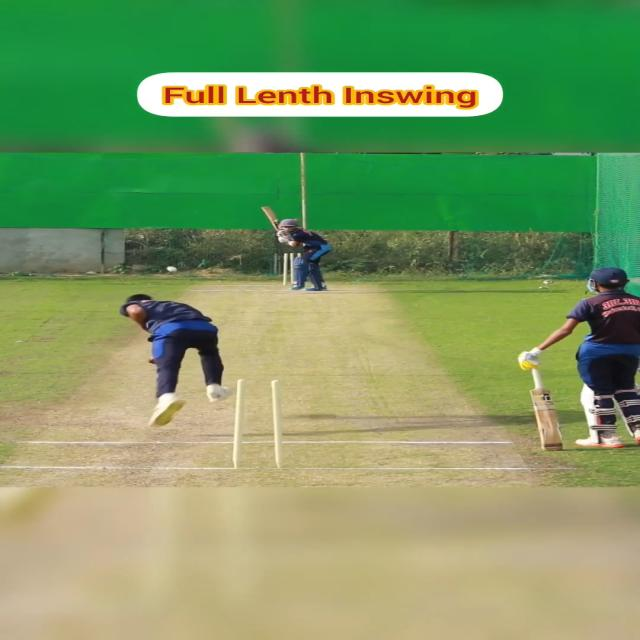ball: (166, 266, 177, 272)
stump: (228, 379, 287, 469), (282, 253, 302, 287)
